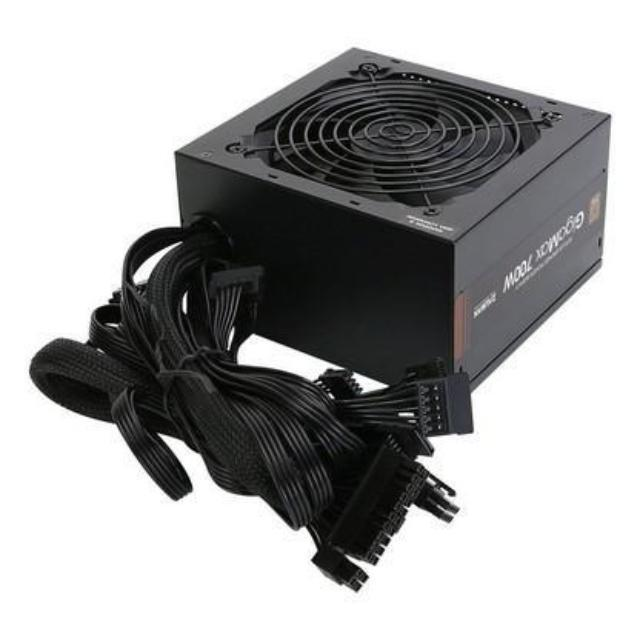PSU: (165, 37, 620, 414)
